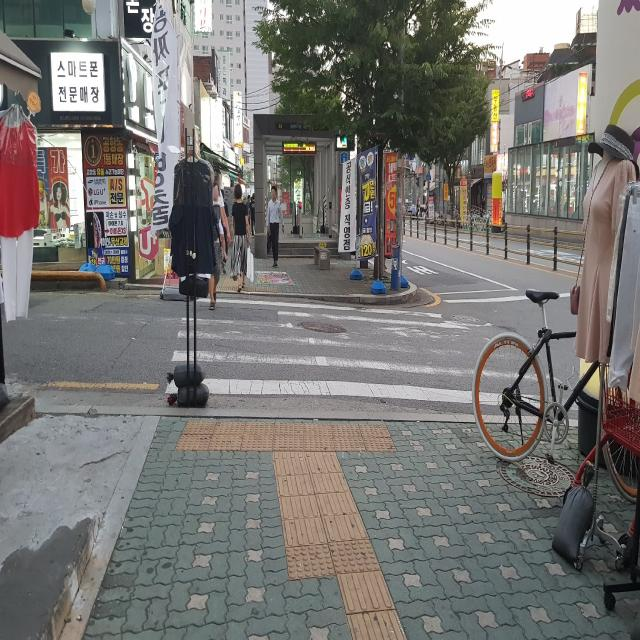횡단보도: (165, 298, 579, 411)
